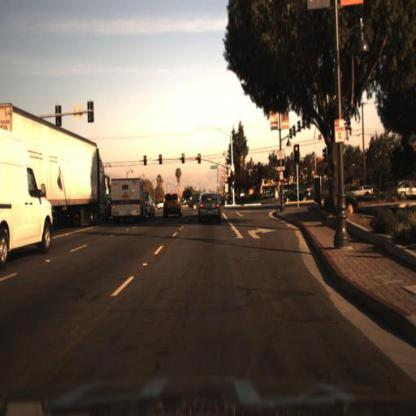car: (1, 120, 58, 273), (106, 176, 146, 229), (197, 190, 225, 229), (282, 180, 314, 208), (161, 190, 185, 224), (343, 179, 377, 202), (146, 192, 157, 222), (157, 198, 167, 219), (190, 190, 199, 212)
trafficLight-Red: (293, 144, 303, 160), (195, 150, 203, 166), (143, 152, 151, 166), (158, 153, 164, 165), (180, 152, 186, 164), (181, 151, 187, 163), (197, 152, 203, 164), (144, 154, 149, 166), (158, 154, 163, 166), (232, 169, 237, 180)
truck: (37, 124, 116, 236)
